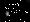person: (12, 8, 19, 19), (7, 9, 11, 18)
